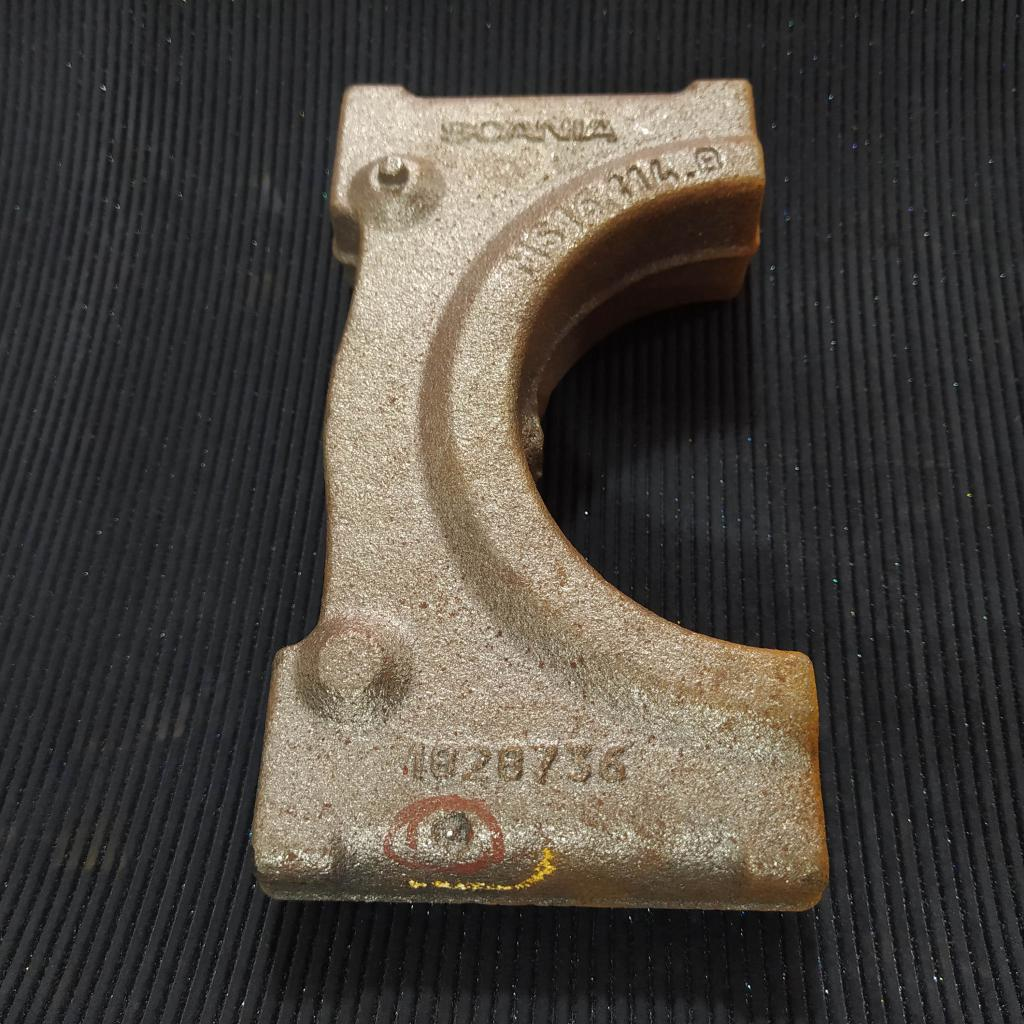buraco: (430, 812, 473, 855)
